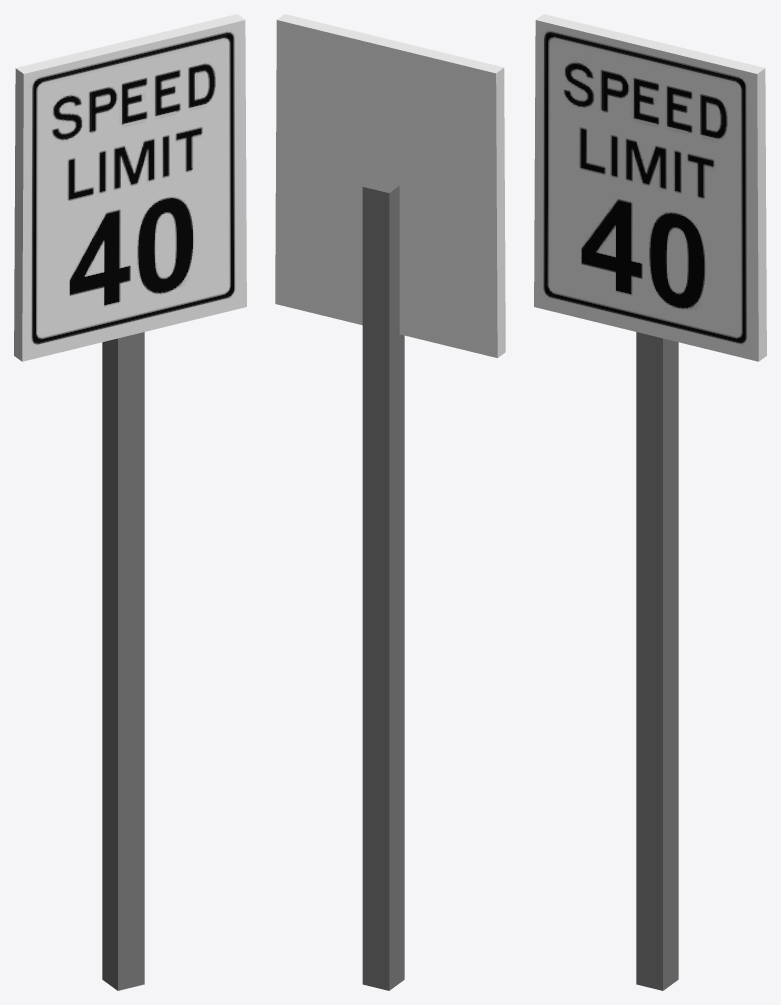
File: prop_speedsign4.fbx
3 views of the same model, side by side, from view 1: azimuth 30°, elevation 25°; view 2: azimuth 150°, elevation 25°; view 3: azimuth 330°, elevation 25° (orthographic).
Visible parts, largest first — view 1: prop_speedsign4; view 2: prop_speedsign4; view 3: prop_speedsign4.
Boxes of the visible parts, x1,y1,x2,y2 form: prop_speedsign4: (14, 14, 246, 990); prop_speedsign4: (275, 14, 505, 990); prop_speedsign4: (534, 14, 766, 990).
Bounding box in the file's own units: 10.32 × 41.38 × 1.5.
